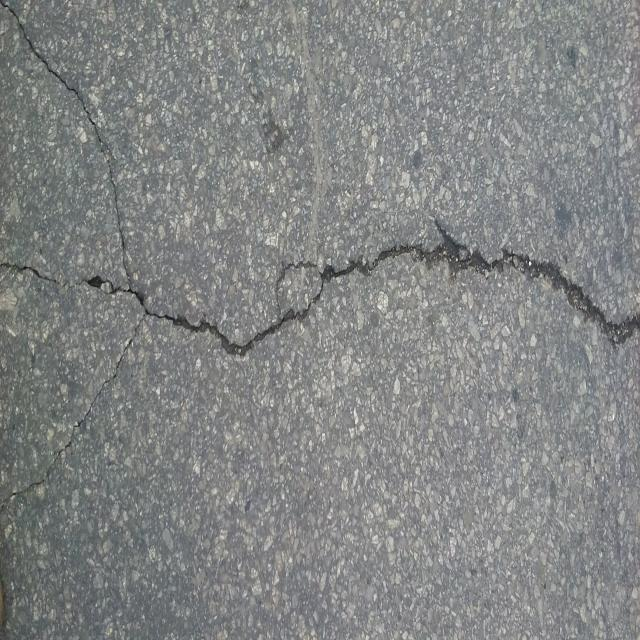transverse: (0, 229, 640, 385)
